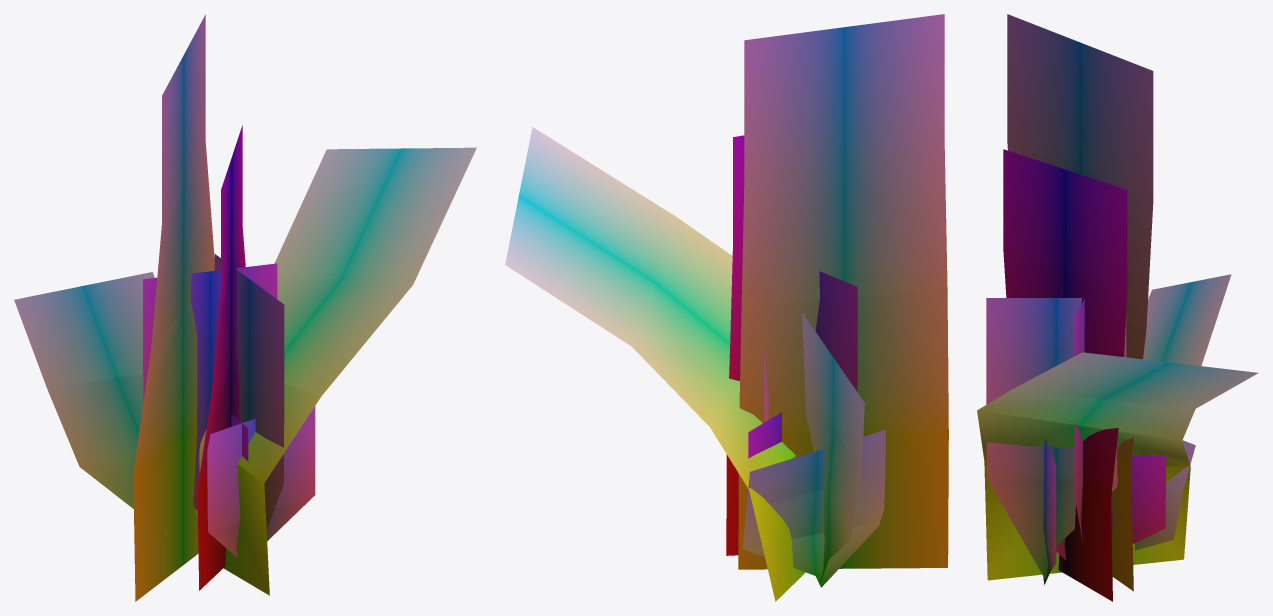
Rendered from fine_filbert_02_3.fbx.
3 views of the same model, side by side, from view 1: azimuth 30°, elevation 25°; view 2: azimuth 150°, elevation 25°; view 3: azimuth 270°, elevation 25° (orthographic). The views are drawn at different scales.
Visible parts, largest first — view 1: fine_filbert_02_3_lod_0; view 2: fine_filbert_02_3_lod_0; view 3: fine_filbert_02_3_lod_0.
Boxes of the visible parts, x1,y1,x2,y2 form: fine_filbert_02_3_lod_0: [14, 14, 476, 601]; fine_filbert_02_3_lod_0: [505, 14, 948, 601]; fine_filbert_02_3_lod_0: [977, 14, 1258, 601].
Size of what is drawn, in the model's own units: 0.45 by 0.2819 by 0.5775.
